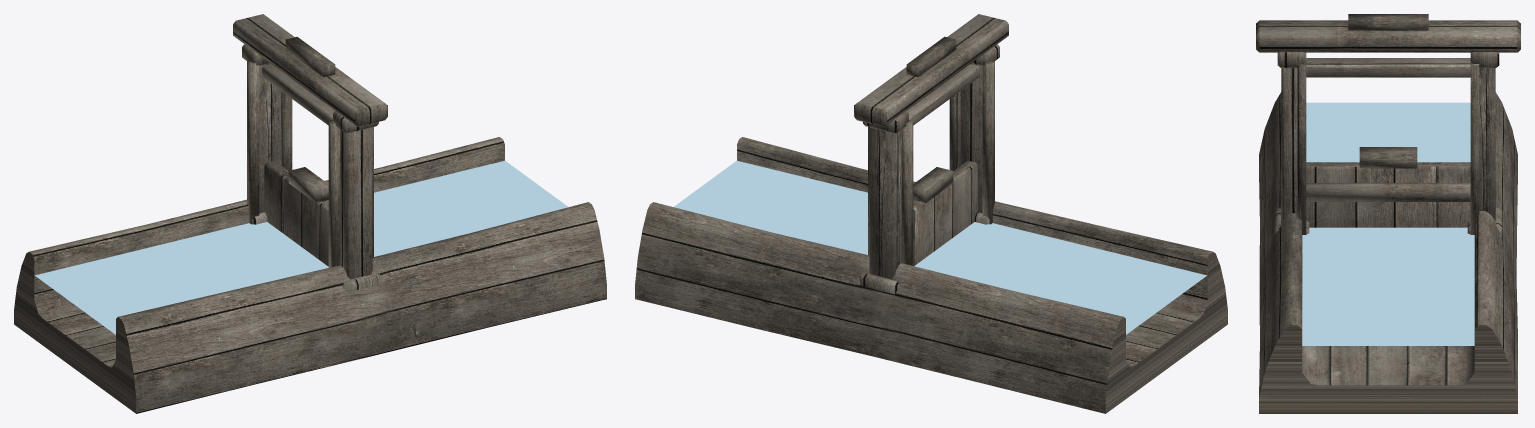
The model's file is gate.glb.
3 renders of one model, left to right at view 1: azimuth 30°, elevation 25°; view 2: azimuth 150°, elevation 25°; view 3: azimuth 270°, elevation 25°, orthographic. The views are drawn at different scales.
Visible parts, largest first — view 1: Channel, Water, GateFrame, Gate; view 2: Channel, Water, GateFrame, Gate; view 3: Channel, Water, GateFrame, Gate.
Part boxes in pixels (x1,y1,x2,y2): Channel: [14, 137, 606, 413]; Water: [35, 160, 568, 334]; GateFrame: [233, 14, 387, 292]; Gate: [264, 160, 328, 266]; Channel: [635, 137, 1227, 413]; Water: [673, 160, 1206, 334]; GateFrame: [854, 14, 1008, 294]; Gate: [913, 160, 977, 265]; Channel: [1259, 92, 1517, 413]; Water: [1302, 102, 1474, 345]; GateFrame: [1256, 14, 1520, 247]; Gate: [1302, 147, 1474, 253].
Size of the model in its own units: 2 by 1.06 by 0.92.
Materials: 3 (2 with a texture image).
